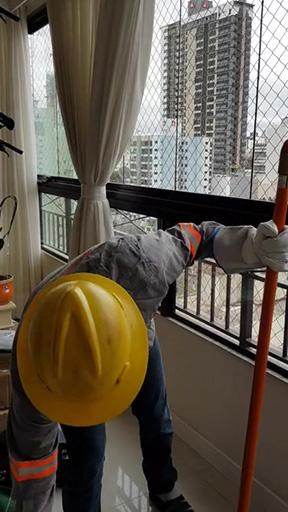Vara_Manobra: (236, 189, 286, 512)
